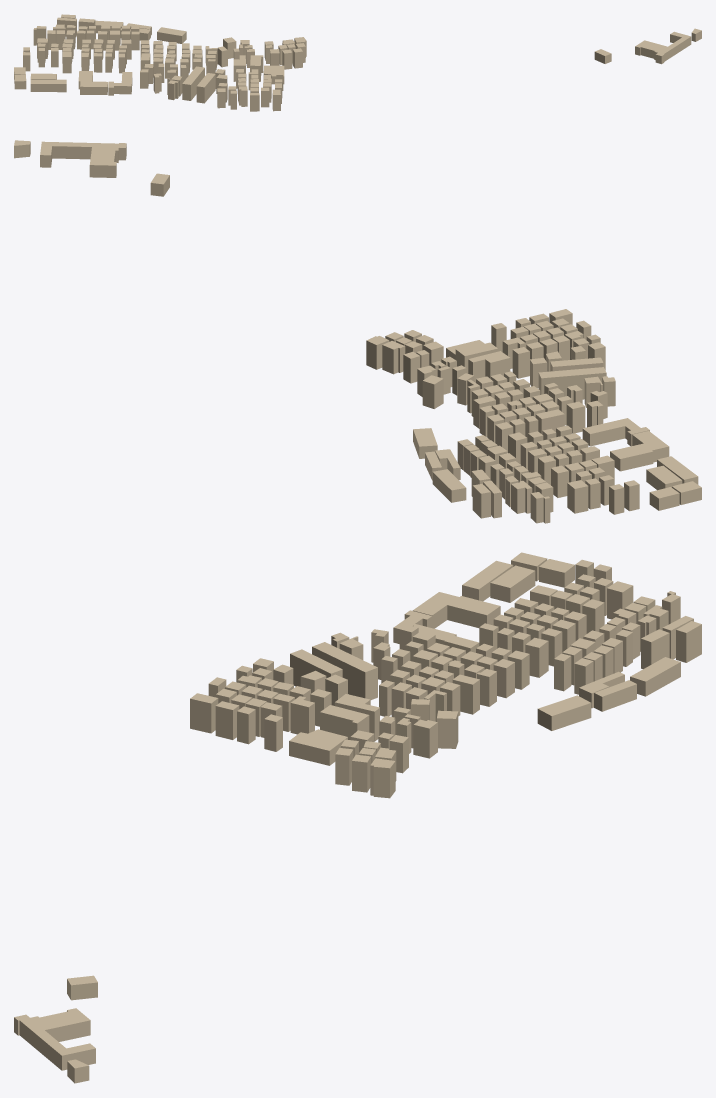
The model's file is 16_6-estimated-coarse.glb.
3 renders of one model, top to bottom at view 1: azimuth 30°, elevation 25°; view 2: azimuth 150°, elevation 25°; view 3: azimuth 270°, elevation 25°, orthographic. The views are drawn at different scales.
Size of the model in its own units: 884 by 24 by 498.
